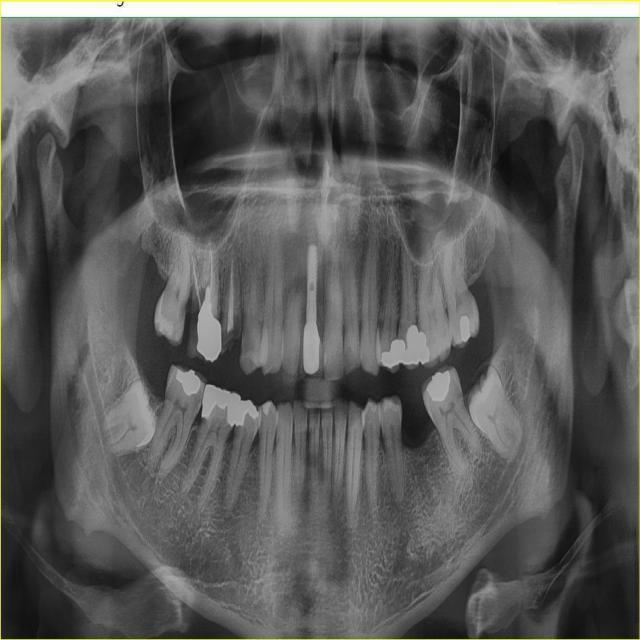Caries: (187, 287, 204, 356), (241, 322, 254, 362), (177, 291, 187, 342)
Crown: (299, 321, 323, 382)
Filling: (197, 287, 222, 361), (201, 385, 240, 428), (397, 328, 420, 365), (427, 370, 451, 401), (178, 367, 201, 396), (236, 399, 258, 426), (380, 341, 401, 369), (416, 331, 429, 363), (459, 314, 470, 339), (383, 398, 398, 416), (263, 401, 272, 418)
Implant: (306, 242, 317, 321)
Missing teeth: (401, 389, 436, 448)
Root Canal Treatment: (192, 258, 202, 311), (227, 256, 234, 329), (210, 252, 212, 292)
impacted tooth: (468, 368, 523, 460), (101, 381, 155, 454)
